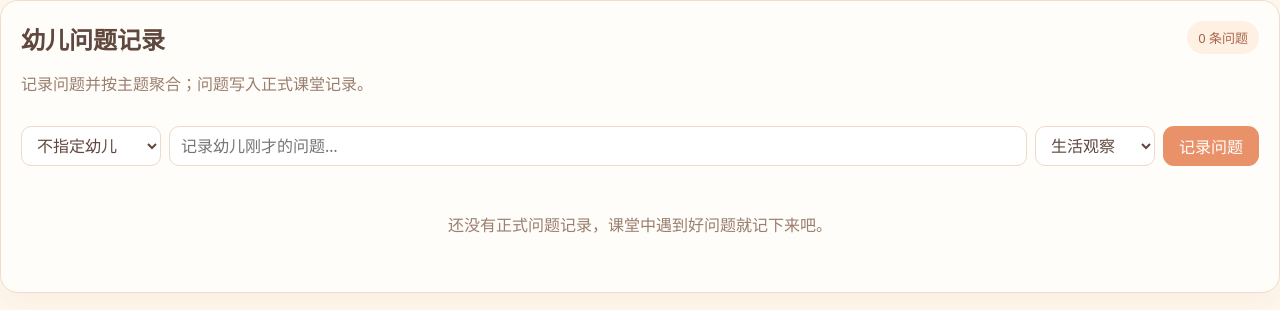
Test case: QuestionRecordPanel › 记录问题：后端成功后写入正式列表并清空输入
Type "为什么天空是蓝色的？" into the field with placeholder "记录幼儿刚才的问题…".
click(598, 146); type("为什么天空是蓝色的？")  # box [169, 126, 1027, 166]
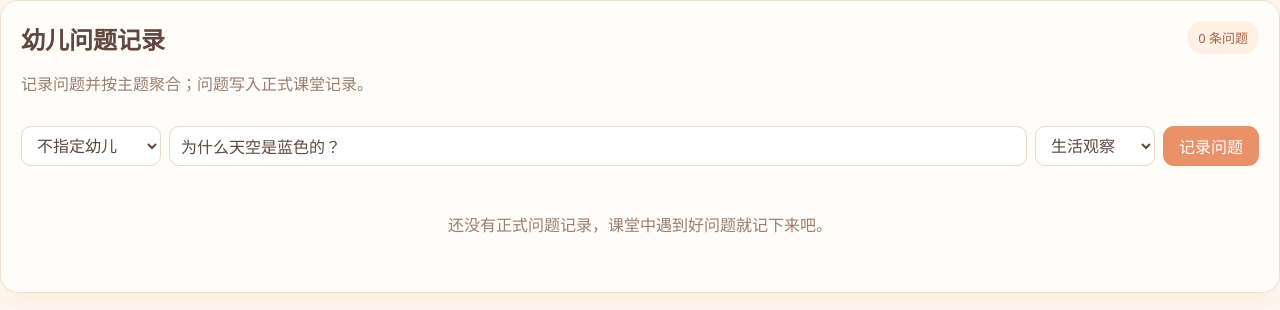
Select "朵朵" in the 1st dropdown at (91, 146), box [21, 126, 161, 166]
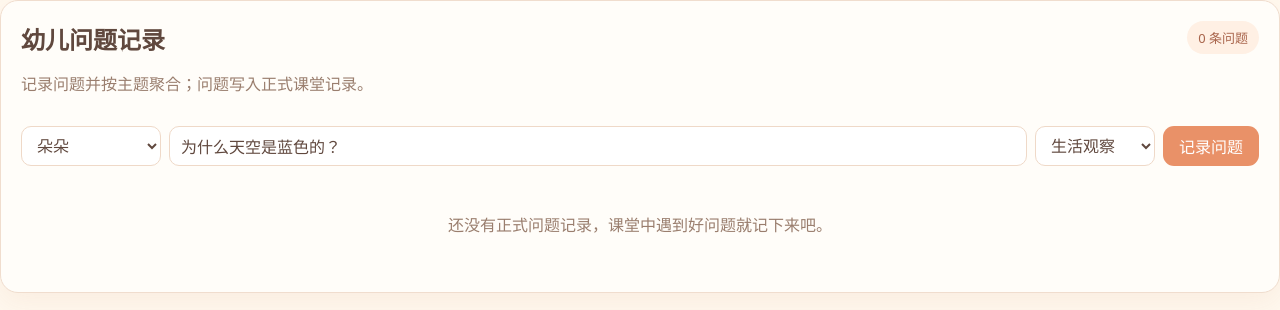
Click the button "记录问题".
click(1211, 146)  # box [1163, 126, 1259, 166]
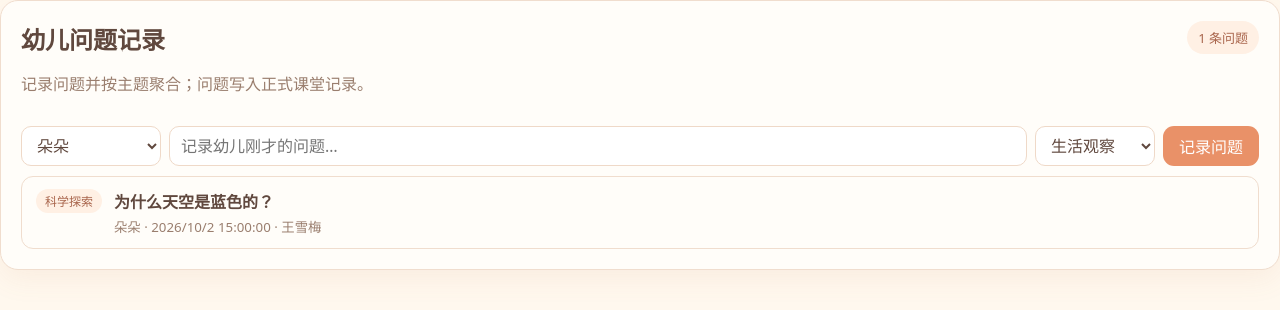
Result: the text "为什么天空是蓝色的？" is shown at [114, 191, 274, 213]
Result: the field with placeholder "记录幼儿刚才的问题…" is empty at [169, 126, 1027, 166]
